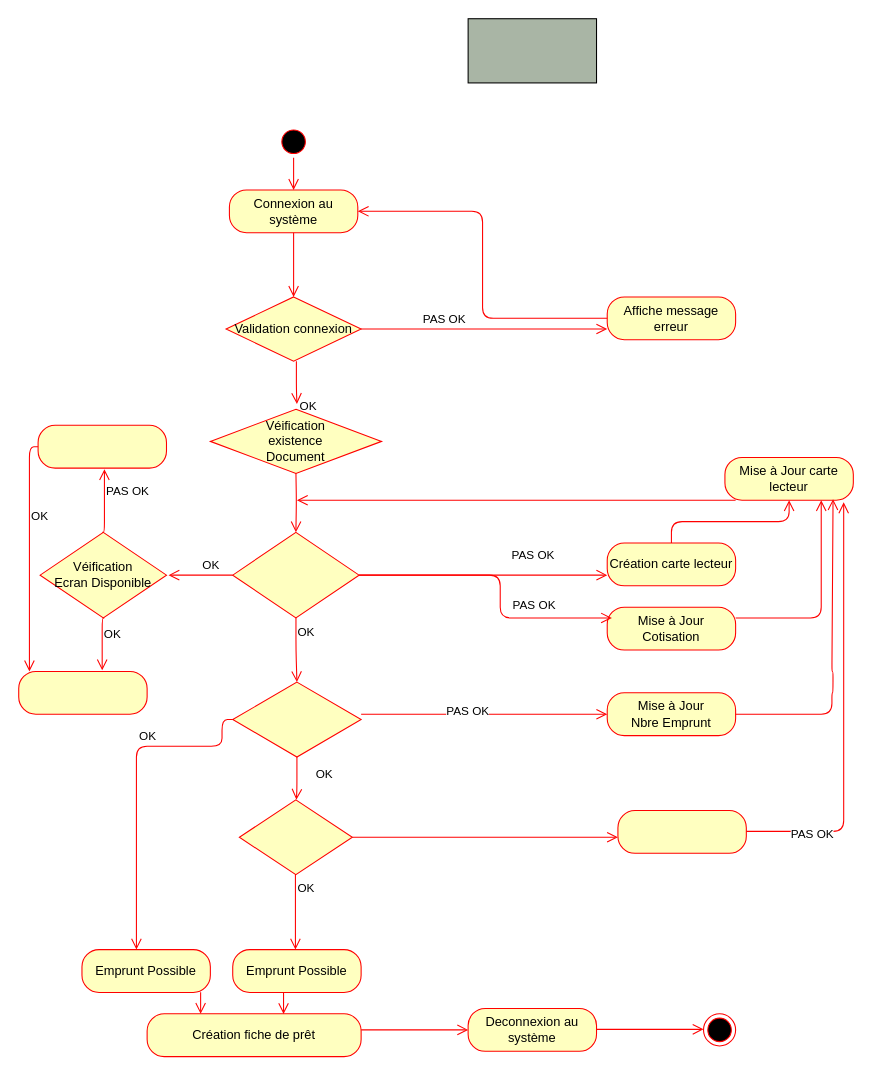
Image size: 873x1075. Some labels were removed from this diagram. The shapes that lost their labels are listed below. From the top down, each one's box as (x1, y1, x2, y2) in pixels, then its label:
(467, 18, 597, 83): Diagramme Activité Emprunt document
(37, 424, 166, 468): Attente Ecran Disponible
(232, 531, 359, 618): Véification Carte Cotisation
(18, 670, 147, 714): Consultation Microfilm
(232, 681, 361, 757): Vérification Nombre Emprunt
(238, 799, 352, 875): Vérification Caution
(617, 809, 746, 853): Mise à Jour Caution
